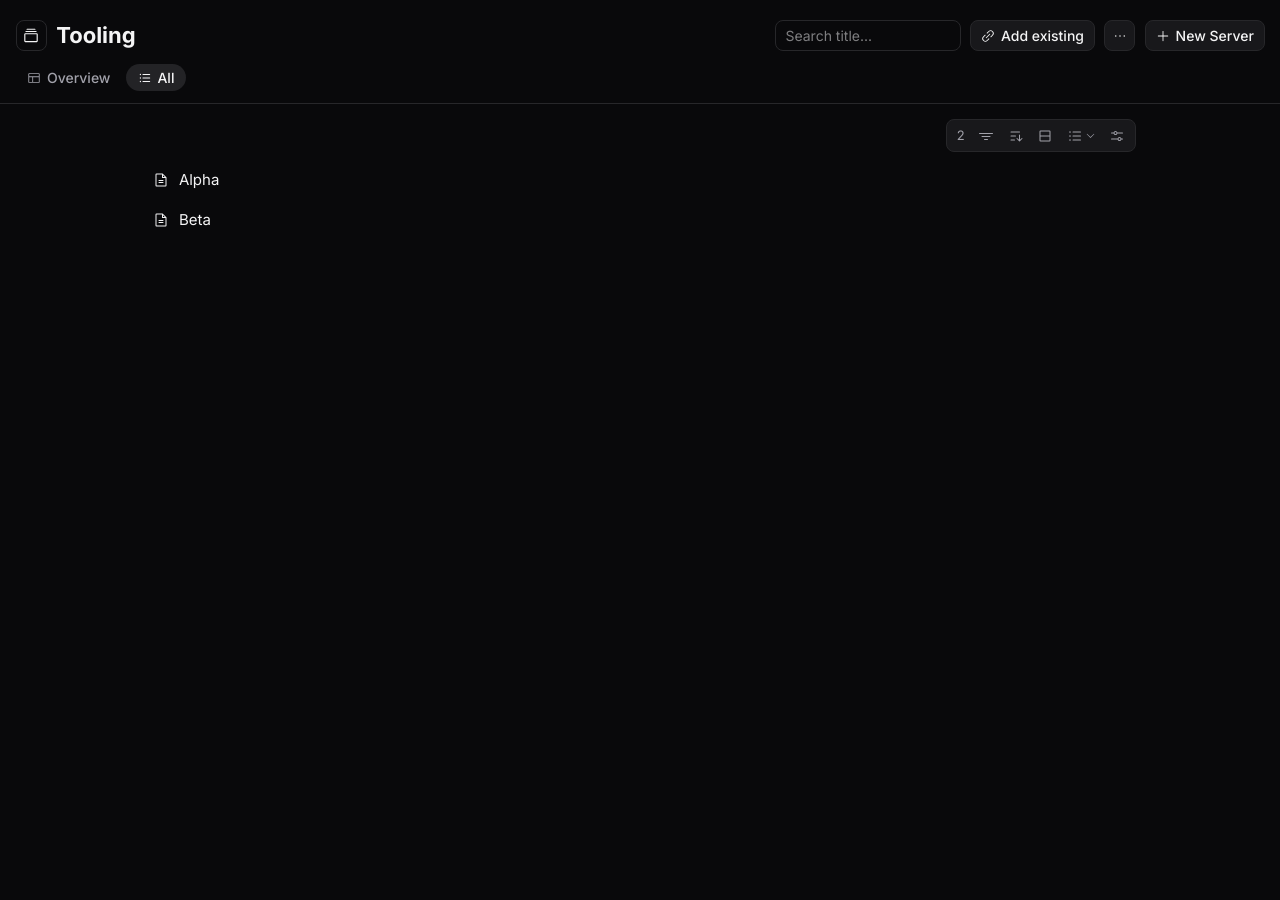
Scenario: CollectionPage › test collection Overview defaults to pinned and Add a section adds a query section
Click the tab "Overview": (69, 78) [16,64,122,91]
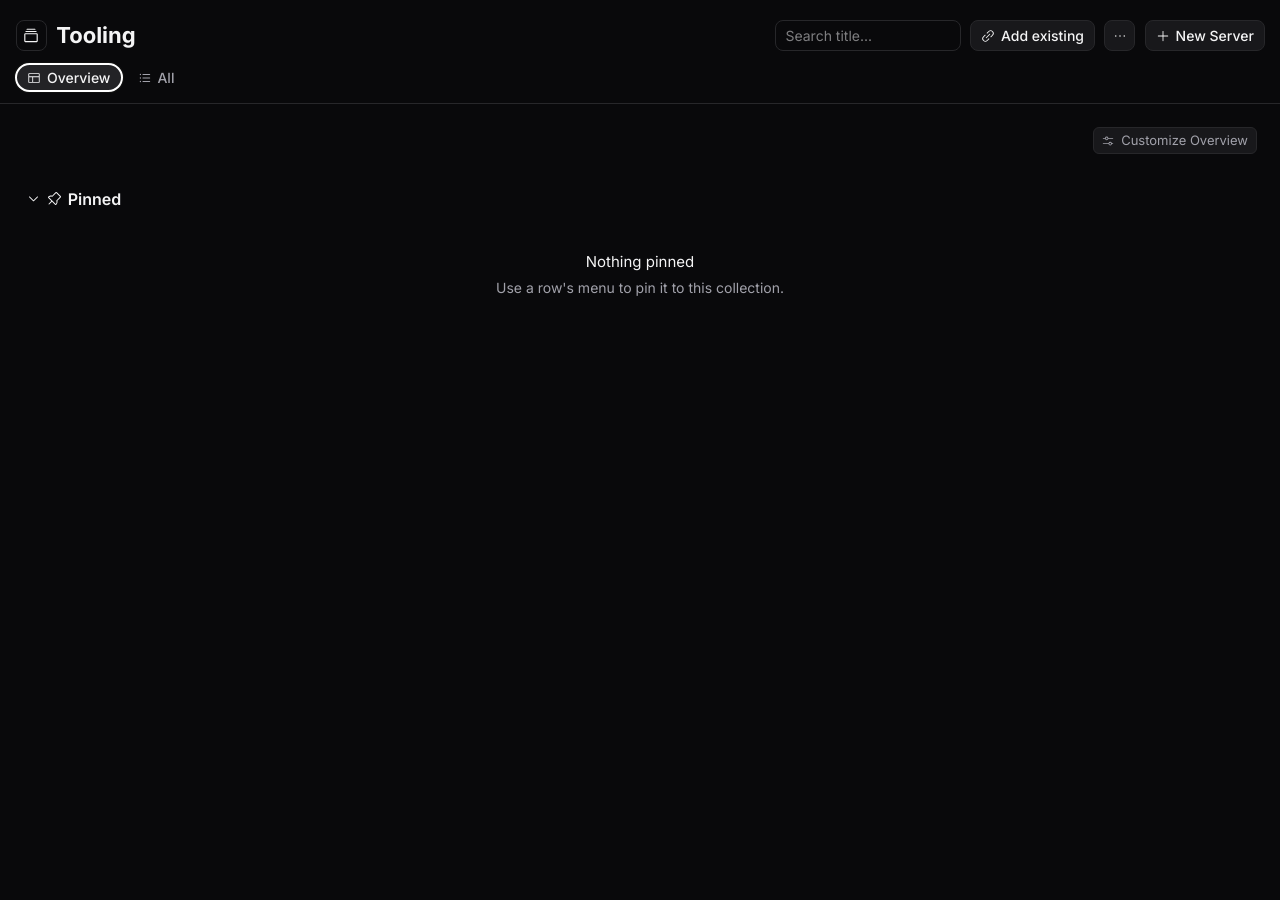
Expected: the text "Nothing pinned" is shown, [586,251,694,274]
Click the button "Customize Overview": (1175, 141) [1093,127,1257,154]
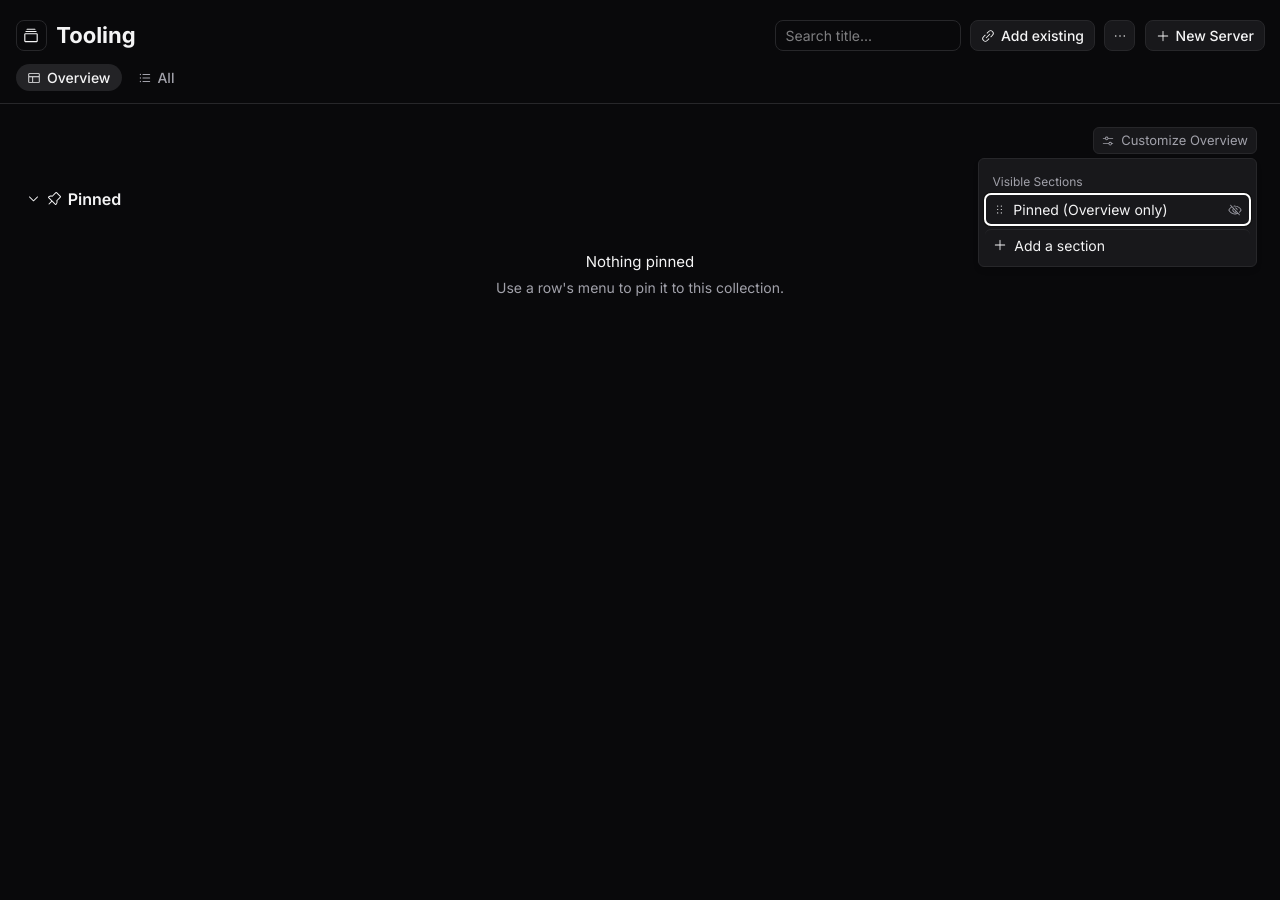
Click the button "Add a section": (1060, 245) [985,229,1250,260]
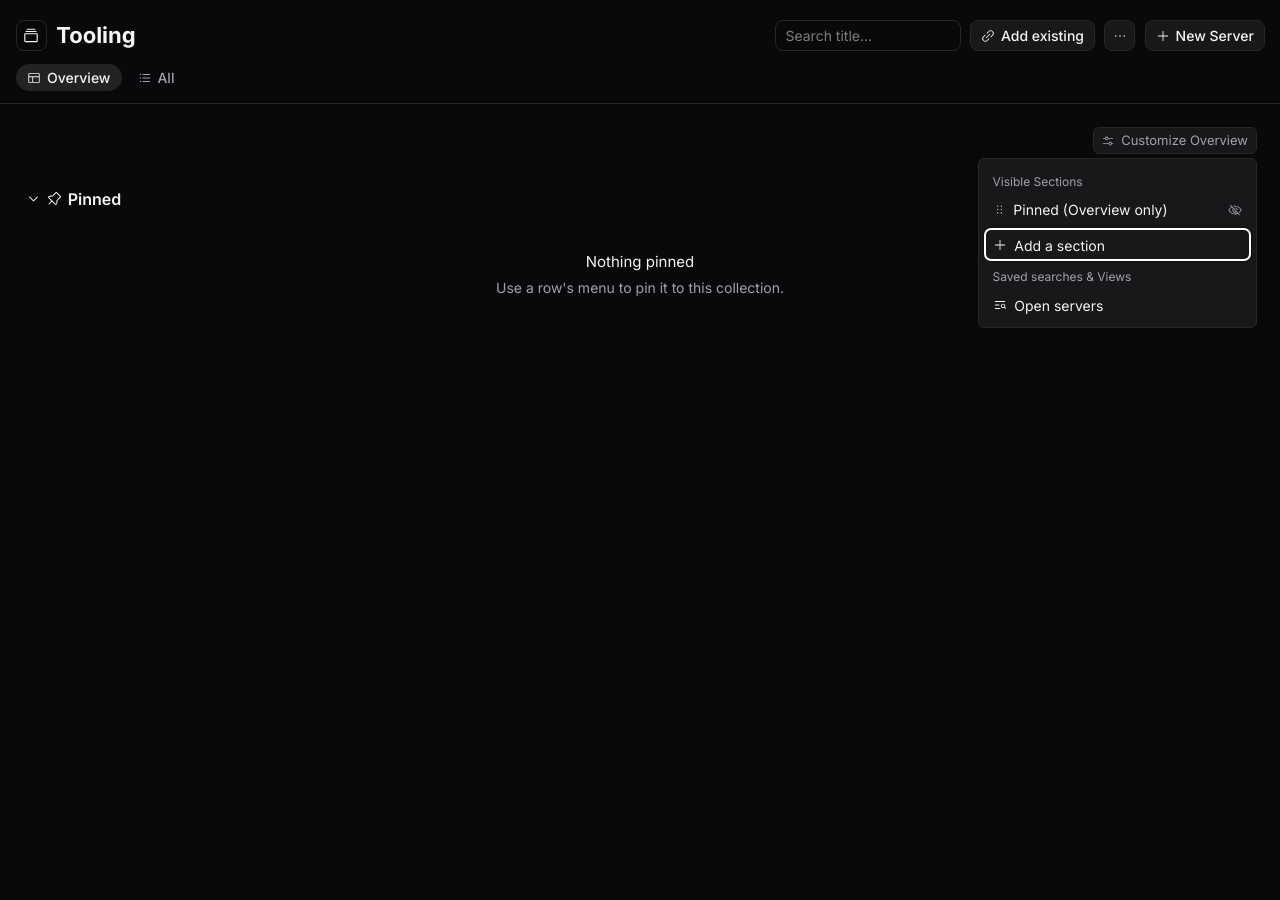
Click the button with aria-label "Add Open servers": (1059, 305) [985,290,1250,321]
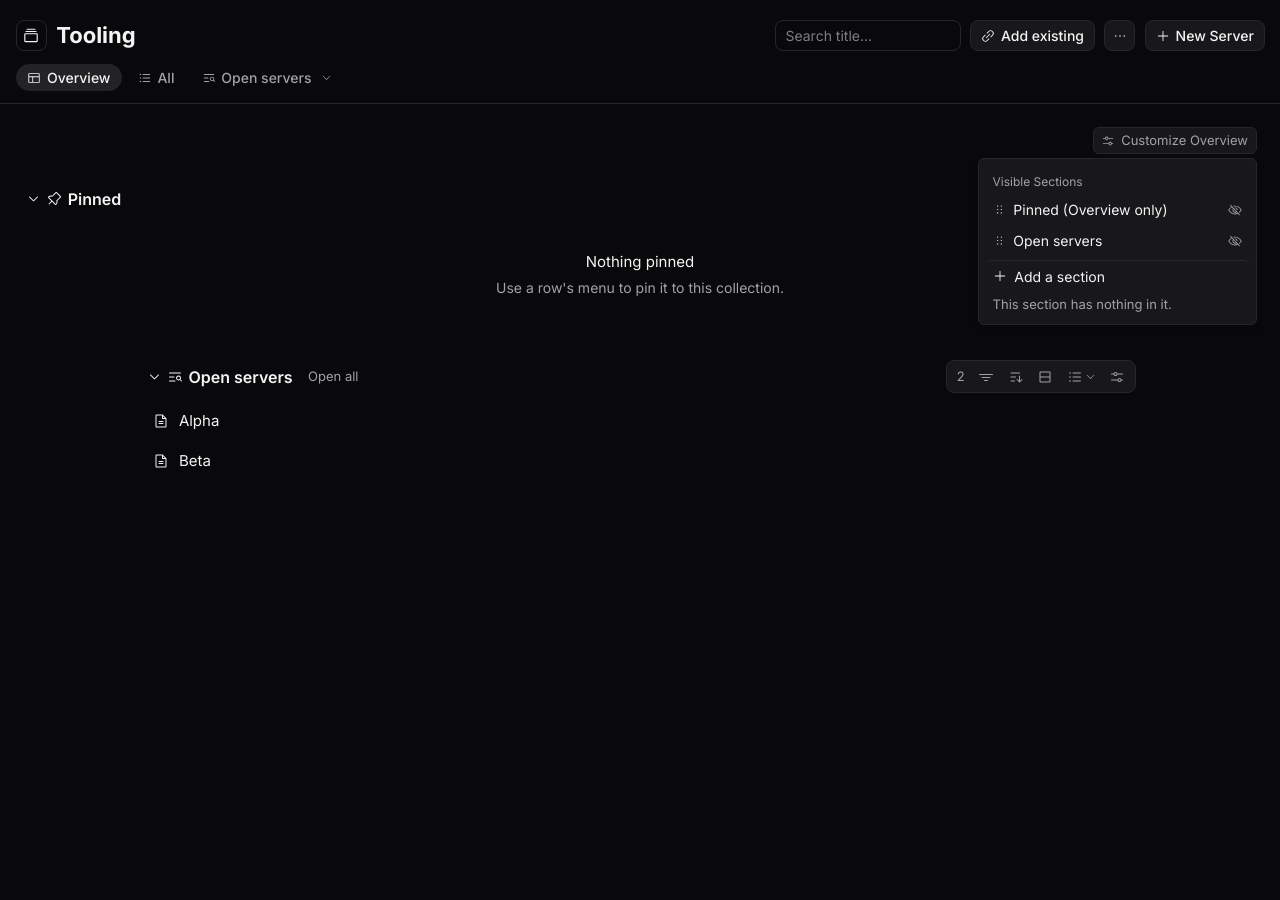
Expected: the tab "Open servers" is shown, [190,64,323,91]
